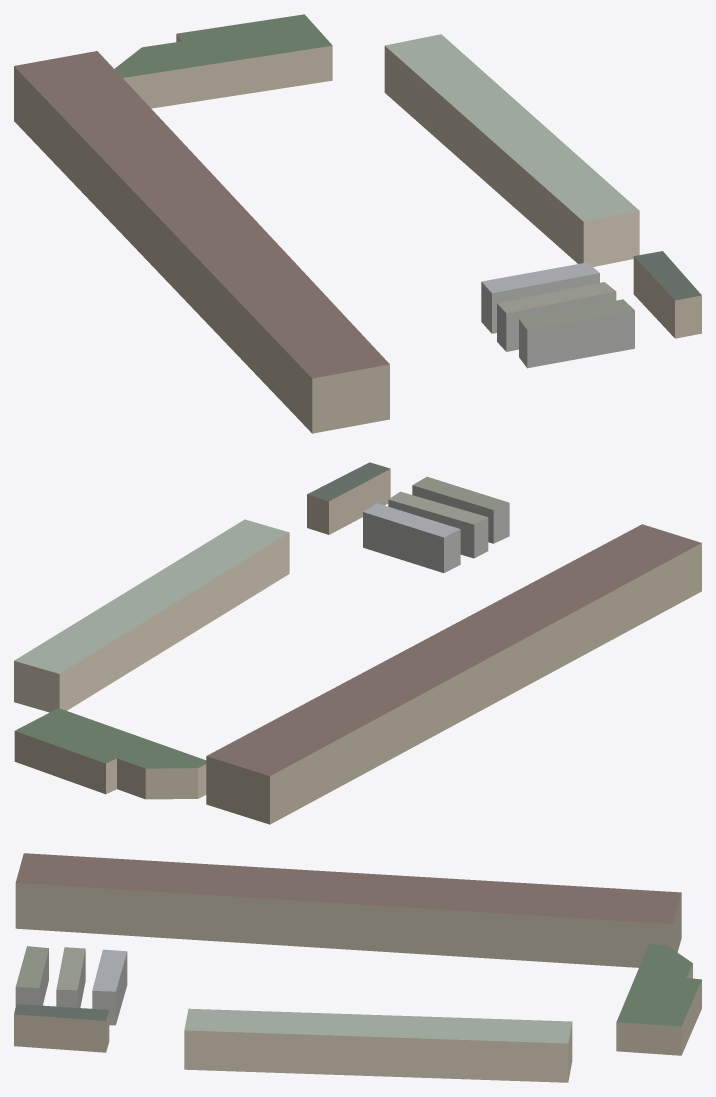
The picture shows the model from 3 angles, top to bottom: view 1: azimuth 30°, elevation 25°; view 2: azimuth 150°, elevation 25°; view 3: azimuth 270°, elevation 25°; orthographic projection. The views are drawn at different scales.
Parts seen in each view (by area): view 1: tuile; view 2: tuile; view 3: tuile.
Part boxes in pixels (left/top/right/bottom): tuile: left=14, top=14, right=701, bottom=433; tuile: left=14, top=462, right=701, bottom=824; tuile: left=14, top=853, right=701, bottom=1082.
Size of the model in its own units: 53.8 by 6.21 by 84.4.
